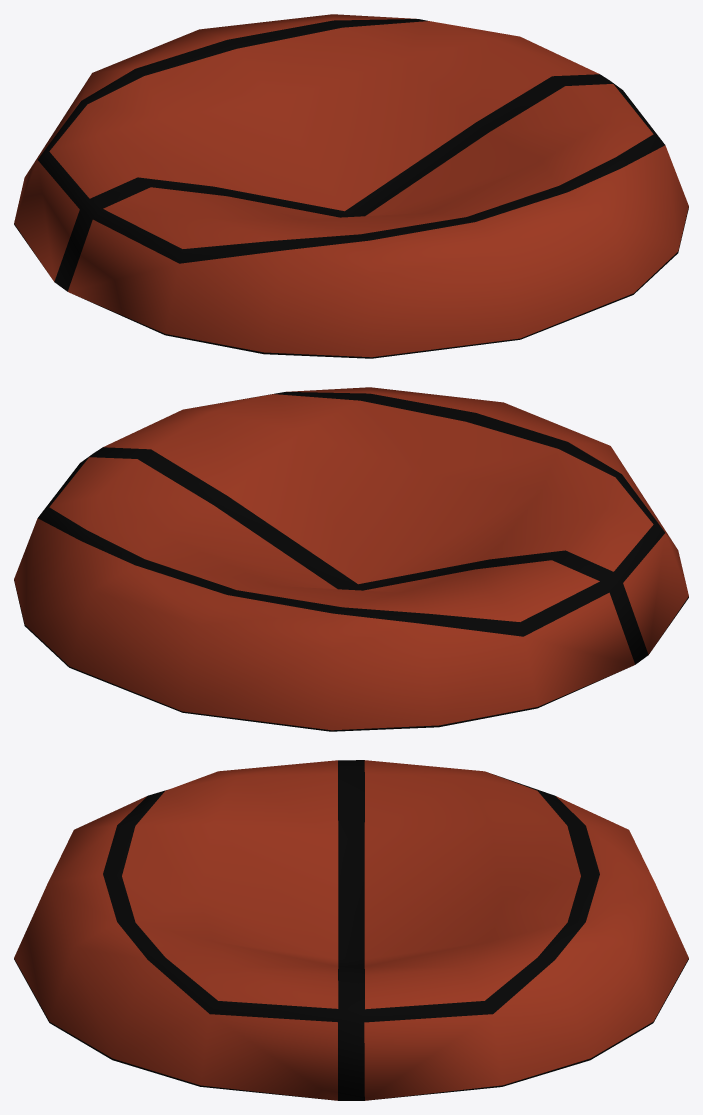
The model's file is Basketball_flat.fbx.
3 renders of one model, top to bottom at view 1: azimuth 30°, elevation 25°; view 2: azimuth 150°, elevation 25°; view 3: azimuth 270°, elevation 25°, orthographic.
Parts seen in each view (by area): view 1: Box008; view 2: Box008; view 3: Box008.
Part boxes in pixels (x1=…): Box008: x1=14, y1=14, x2=688, y2=358; Box008: x1=14, y1=387, x2=688, y2=731; Box008: x1=14, y1=760, x2=688, y2=1100.
Bounding box in the file's own units: 60.74 × 8.73 × 61.18.
